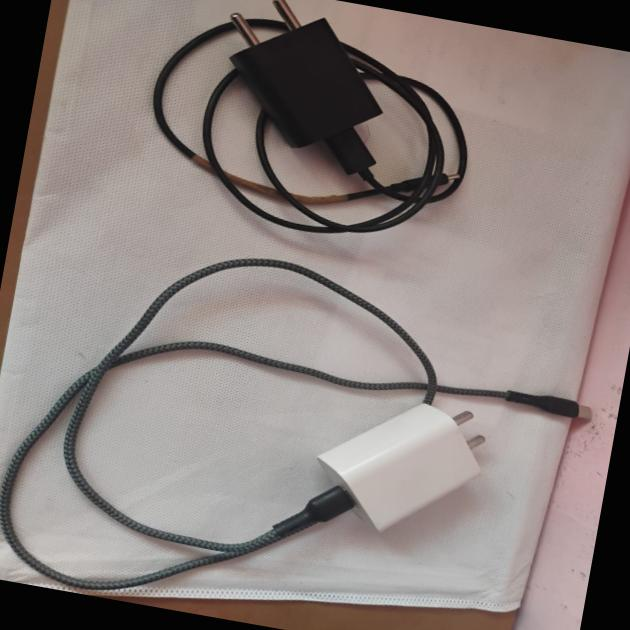mobilecharger: (0, 237, 549, 630), (109, 0, 503, 273)
